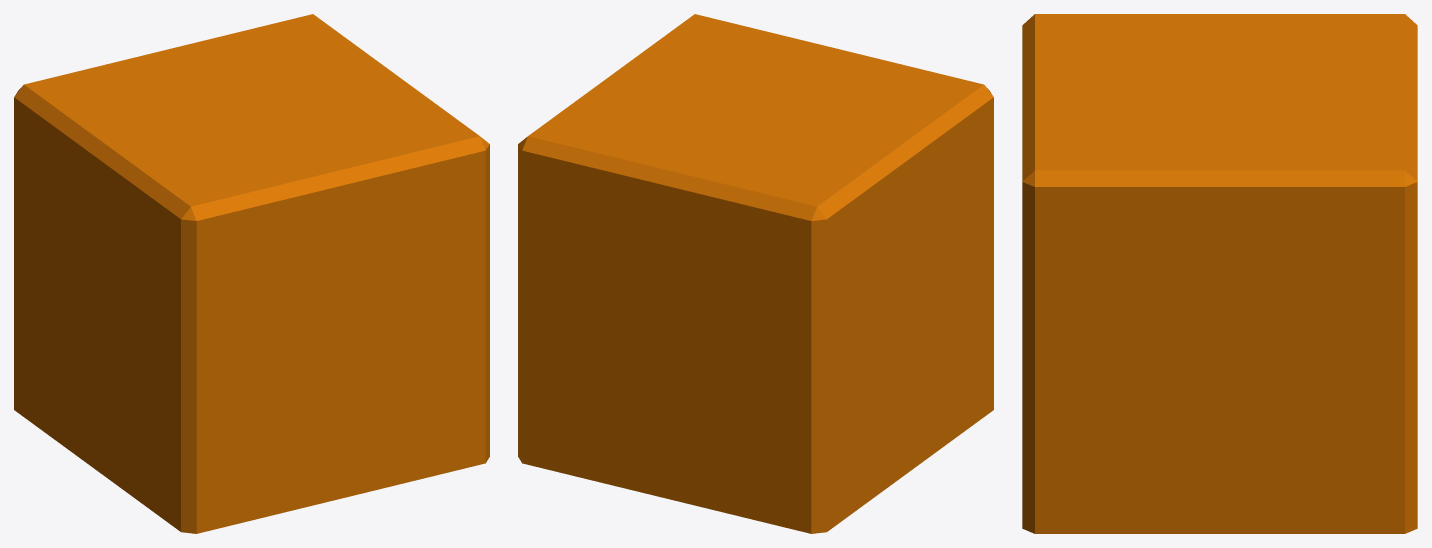
Rendered from Grass 01.FBX.
3 views of the same model, side by side, from view 1: azimuth 30°, elevation 25°; view 2: azimuth 150°, elevation 25°; view 3: azimuth 270°, elevation 25° (orthographic). The views are drawn at different scales.
Parts seen in each view (by area): view 1: Grass 01; view 2: Grass 01; view 3: Grass 01.
Part boxes in pixels (bbox=[...]): Grass 01: bbox=[14, 14, 489, 533]; Grass 01: bbox=[518, 14, 993, 533]; Grass 01: bbox=[1022, 14, 1417, 533].
Bounding box in the file's own units: 39.37 × 39.37 × 39.37.
